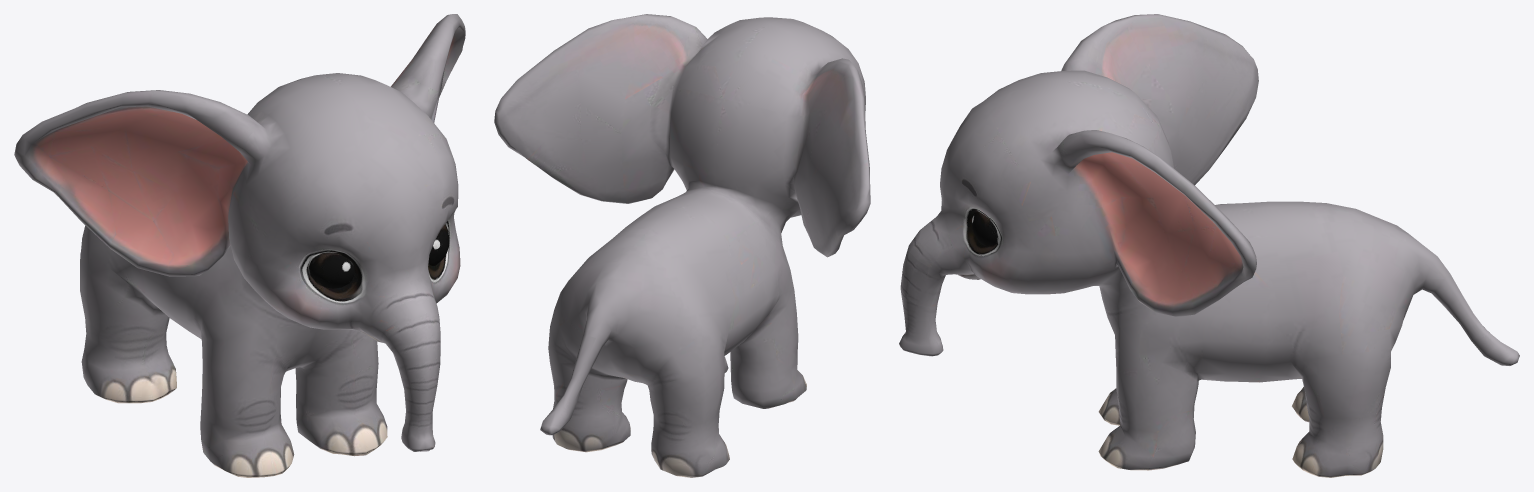
The model's file is toy-elephant.prefab.glb.
3 views of the same model, side by side, from view 1: azimuth 30°, elevation 25°; view 2: azimuth 150°, elevation 25°; view 3: azimuth 270°, elevation 25° (orthographic). The views are drawn at different scales.
Parts seen in each view (by area): view 1: Prize_Batch0; view 2: Prize_Batch0; view 3: Prize_Batch0.
Part boxes in pixels (x1=…): Prize_Batch0: x1=14, y1=14, x2=465, y2=477; Prize_Batch0: x1=494, y1=14, x2=870, y2=477; Prize_Batch0: x1=899, y1=14, x2=1519, y2=477.
Size of the model in its own units: 0.0239 by 0.0204 by 0.032.
1 material, 1 textured.
